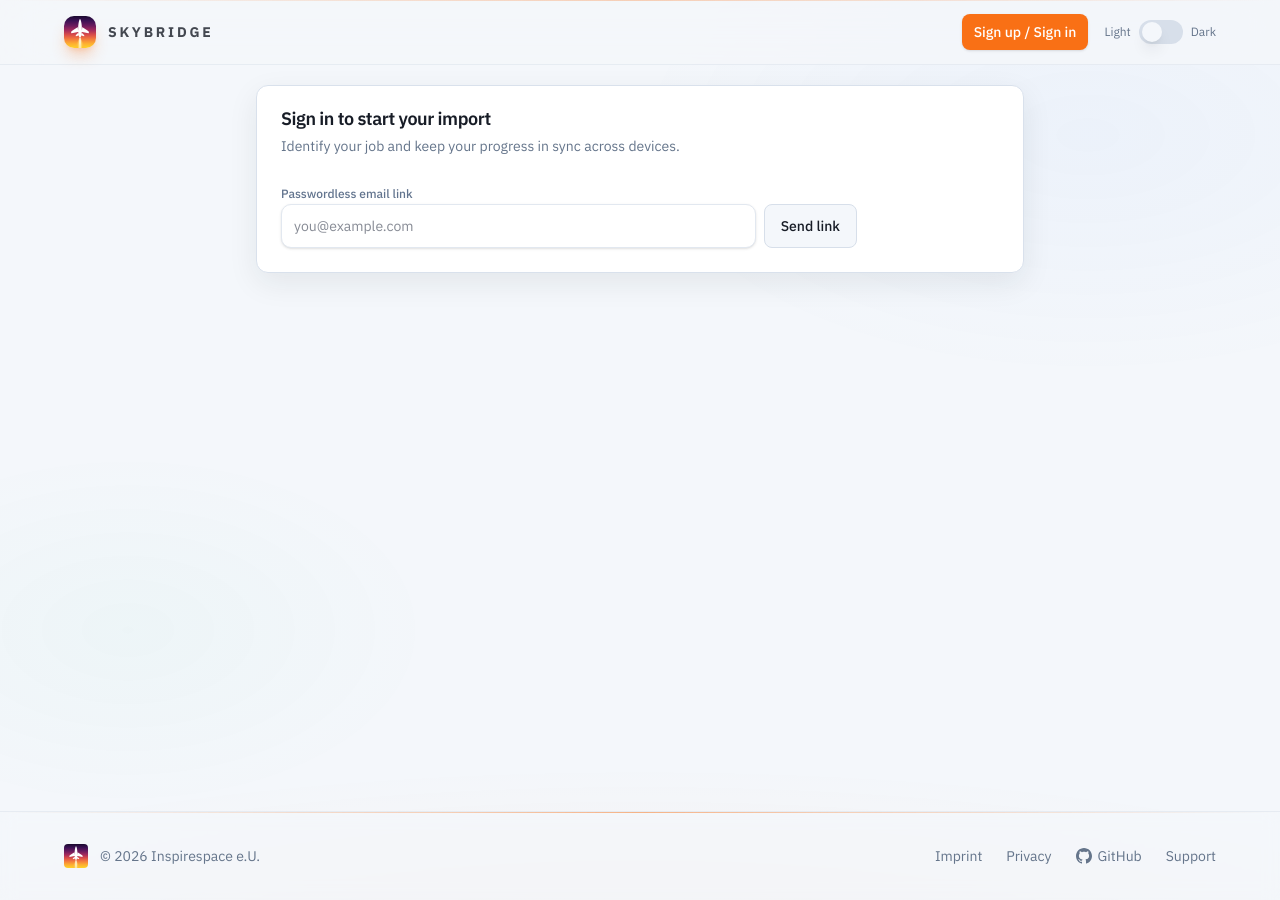
Test case: App UI flows › shows inbox guidance only after the email-link request succeeds
In the field labelled "Passwordless email link": (518, 226) [281,204,756,248], type "pilot@example.com"
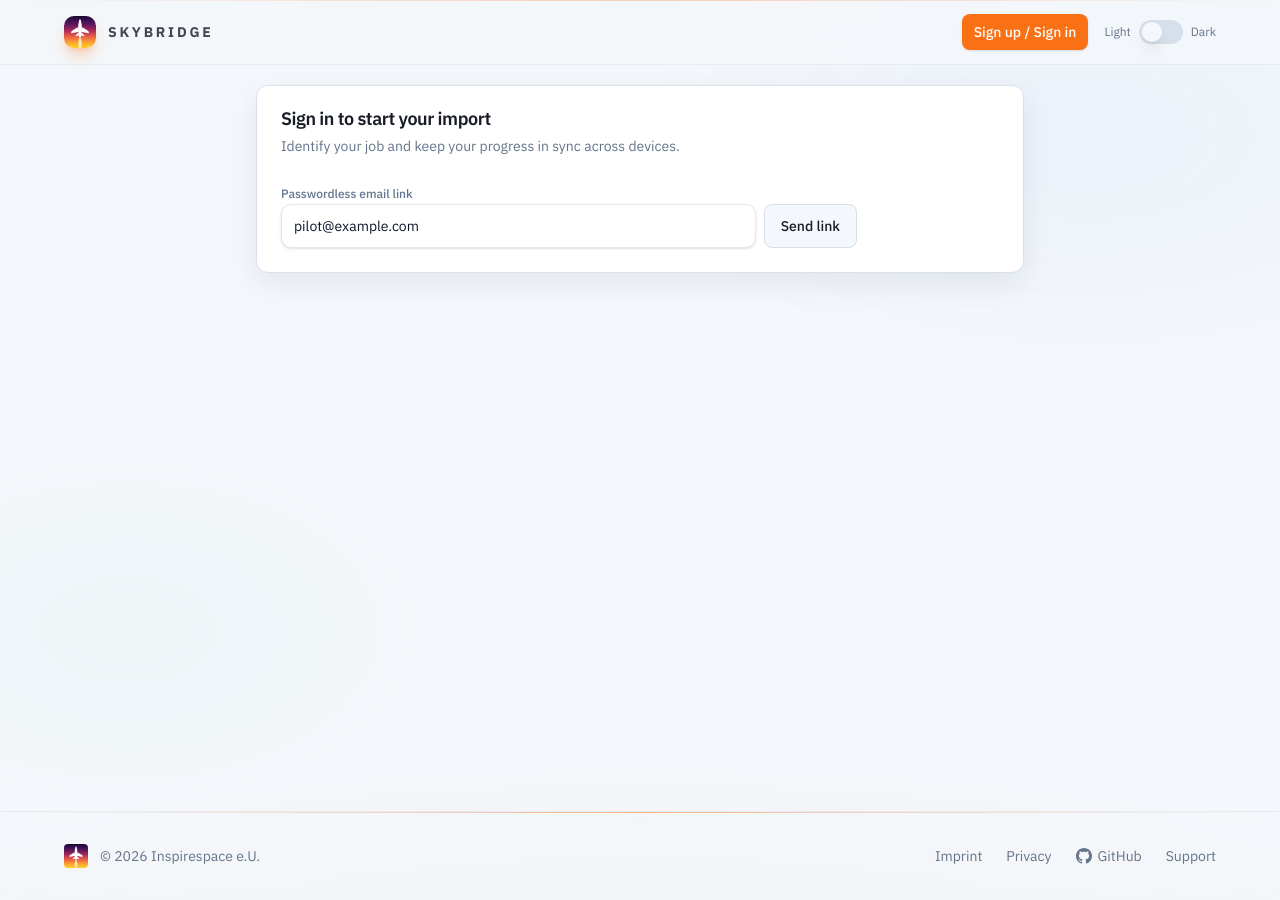
Click the button "Send link": (810, 226) [764,204,857,248]
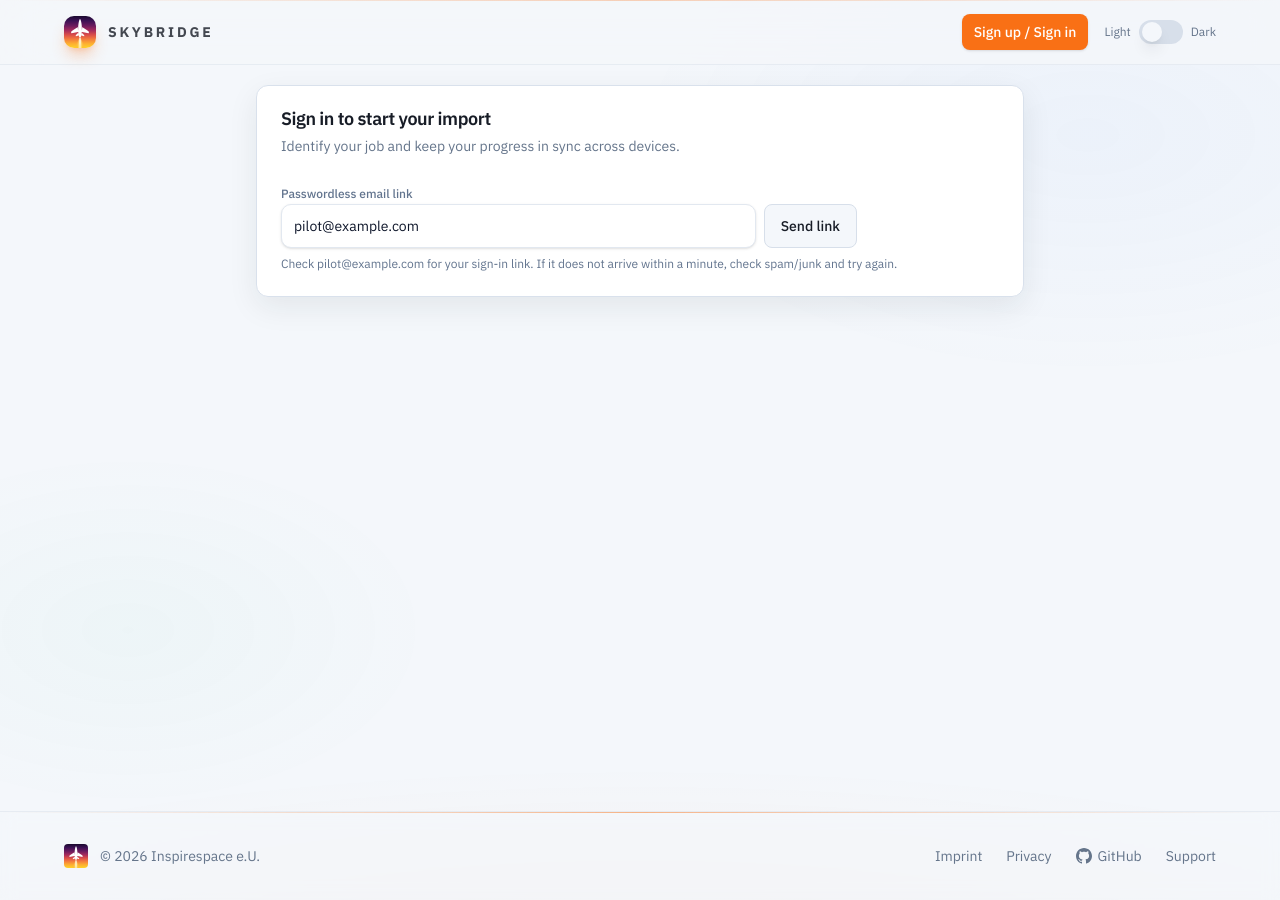
Now the text "Check pilot@example.com for your sign-in link" is shown, box [281,256,897,271]
